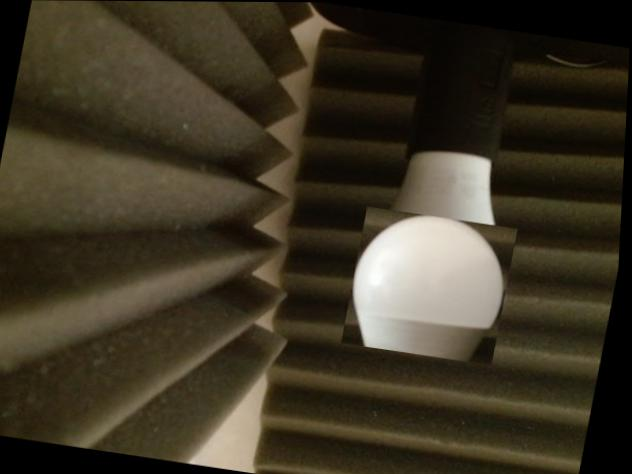Fan: (343, 202, 521, 362)
